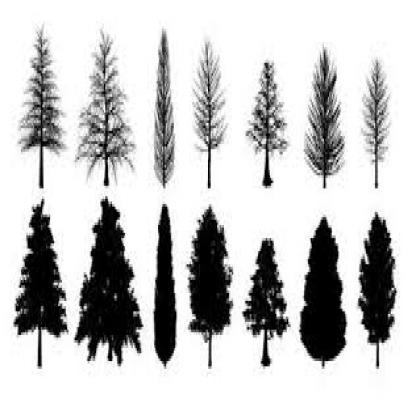crown_dizzy: (15, 191, 70, 338), (186, 207, 234, 340)
trunk_straight: (35, 333, 46, 364), (208, 343, 212, 363)
